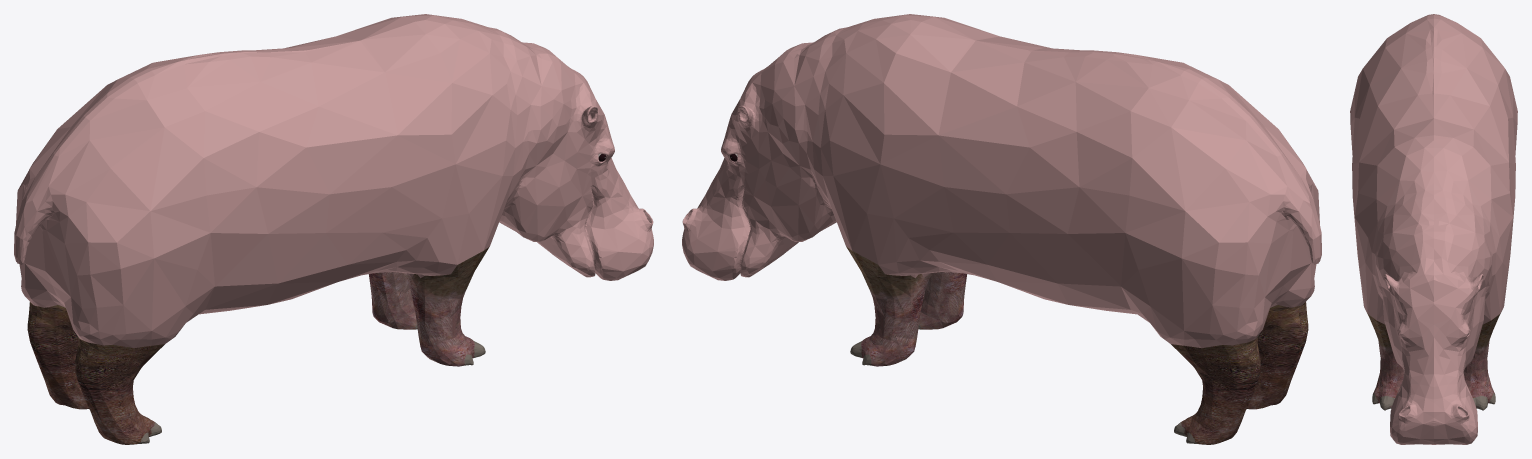
3 views of the same model, side by side, from view 1: azimuth 30°, elevation 25°; view 2: azimuth 150°, elevation 25°; view 3: azimuth 270°, elevation 25° (orthographic). The views are drawn at different scales.
Parts seen in each view (by area): view 1: hipocpo; view 2: hipocpo; view 3: hipocpo.
Boxes of the visible parts, x1,y1,x2,y2 form: hipocpo: (14, 14, 653, 444); hipocpo: (682, 14, 1321, 444); hipocpo: (1350, 14, 1517, 444).
Size of the model in its own units: 114 by 59.89 by 33.05.
